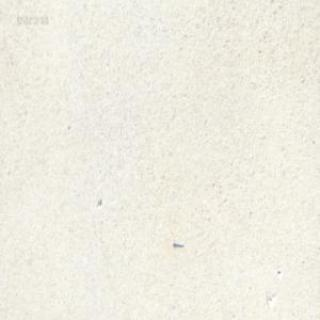Nailtrack_idkeyframe: (172, 239, 183, 247)
